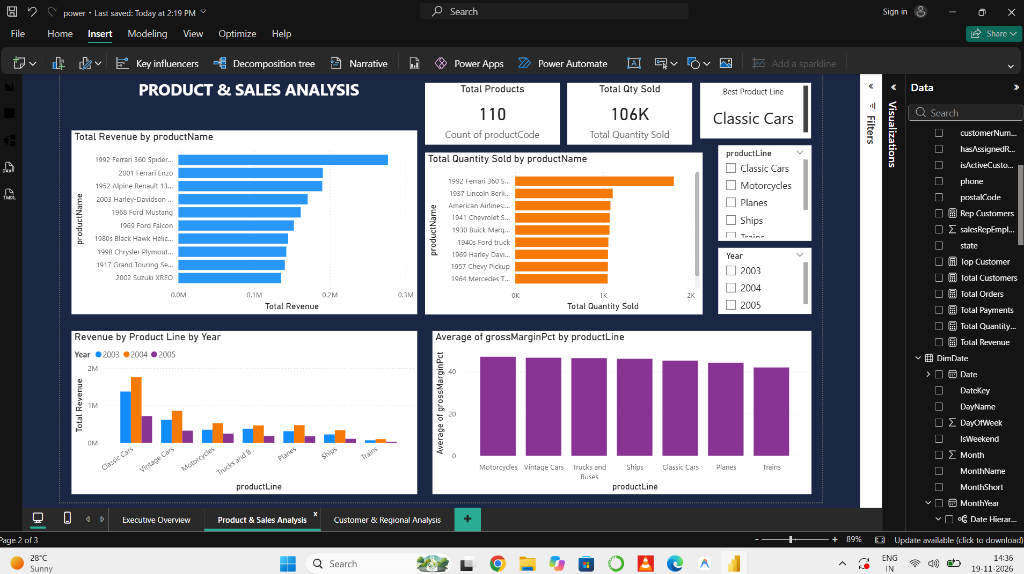

The dashboard page shown, as its layout file describes it:
{"tool":"powerbi","page":{"name":"Product & Sales Analysis","canvas":[1280,720],"ordinal":1},"visuals":[{"type":"card","title":"Total Products","fields":{"Values":["CountNonNull(DimProduct.productCode)"]},"box":[613.4,15.1,226.4,104.3],"z":0},{"type":"card","title":"Total Qty Sold","fields":{"Values":["DimCustomer.Total Quantity Sold"]},"box":[852.1,15.1,209.9,104.3],"z":1},{"type":"clusteredBarChart","fields":{"Category":["DimProduct.productName"],"Y":["DimCustomer.Total Revenue"]},"box":[19.2,94.7,580.4,308.7],"z":4},{"type":"clusteredBarChart","fields":{"Category":["DimProduct.productName"],"Y":["DimCustomer.Total Quantity Sold"]},"box":[613.4,131.7,466.6,271.7],"z":5},{"type":"slicer","fields":{"Values":["DimProduct.productLine"]},"box":[1106,119.4,156.4,160.5],"z":6},{"type":"slicer","fields":{"Values":["DimDate.Year"]},"box":[1106,292.3,156.4,111.1],"z":8},{"type":"textbox","box":[1075.8,15.1,186.6,93.3],"z":10},{"type":"clusteredColumnChart","title":"Revenue by Product Line by Year","fields":{"Category":["DimProduct.productLine"],"Y":["DimCustomer.Total Revenue"],"Series":["DimDate.Year"]},"box":[19.2,432.2,580.4,274.4],"z":11},{"type":"clusteredColumnChart","fields":{"Category":["DimProduct.productLine"],"Y":["Avg(DimProduct.grossMarginPct)"]},"box":[625.7,432.2,636.7,274.4],"z":12},{"type":"textbox","box":[38.4,2.7,517.3,61.7],"z":13}]}

Visuals, with their boxes on the page's 1280x720 design canvas (x1, y1, x2, y2). These are canvas units, not pixel positions in the 1024x574 screenshot, which may show the page scaled, cropped or inside an application window:
"Total Products" card: rect(613, 15, 840, 119)
"Total Qty Sold" card: rect(852, 15, 1062, 119)
clusteredBarChart - DimProduct.productName x DimCustomer.Total Revenue: rect(19, 95, 600, 403)
clusteredBarChart - DimProduct.productName x DimCustomer.Total Quantity Sold: rect(613, 132, 1080, 403)
slicer - DimProduct.productLine: rect(1106, 119, 1262, 280)
slicer - DimDate.Year: rect(1106, 292, 1262, 403)
textbox: rect(1076, 15, 1262, 108)
"Revenue by Product Line by Year" clusteredColumnChart: rect(19, 432, 600, 707)
clusteredColumnChart - DimProduct.productLine x Avg(DimProduct.grossMarginPct): rect(626, 432, 1262, 707)
textbox: rect(38, 3, 556, 64)
